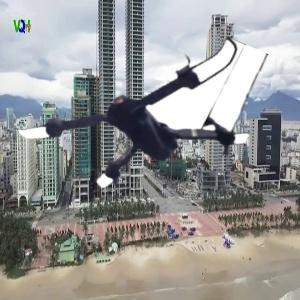drone: (25, 7, 249, 231)
